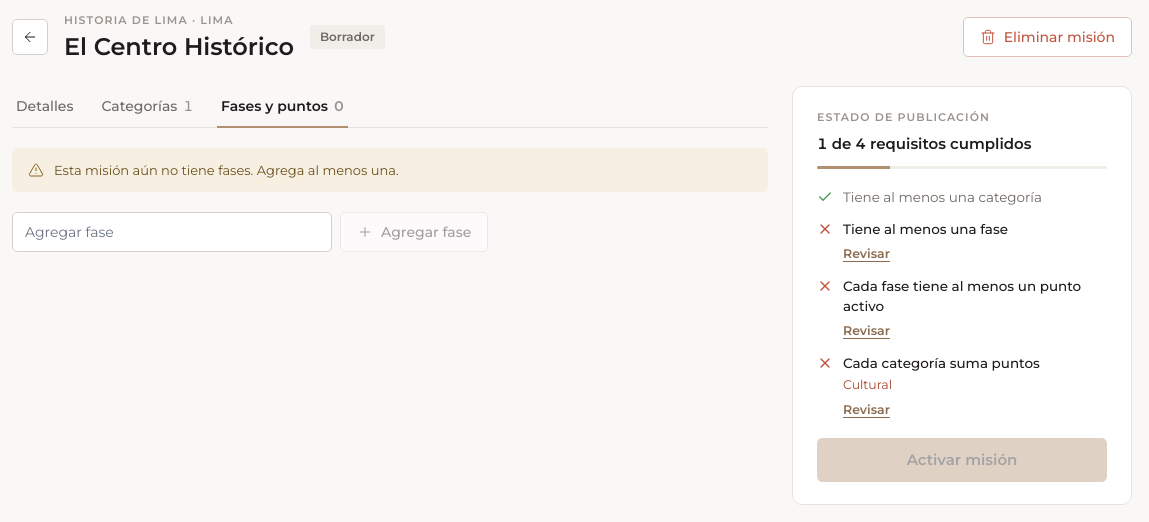
Mission editor — tab state in the URL › switching tabs works from a URL-driven state
Expected: the button "Agregar fase" is shown, [340, 212, 488, 252]
What coordinates should you click on to do the following:
click the button "Categorías1"
I would click on:
 (147, 107)
Its box is [97, 86, 197, 128].
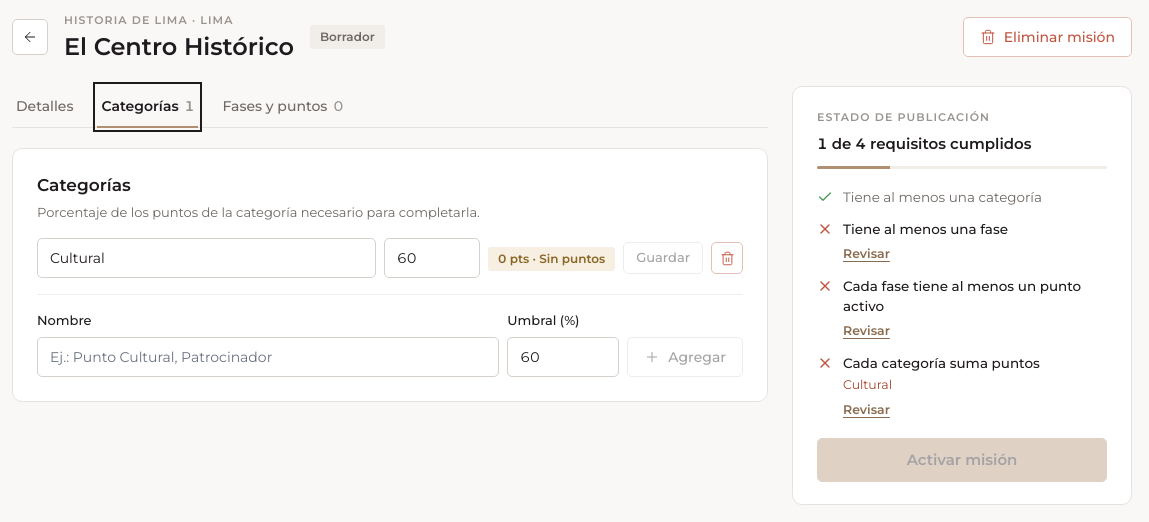
Expected: the text "Porcentaje de los puntos de la categoría necesario para completarla." is shown, [37, 204, 480, 220]
